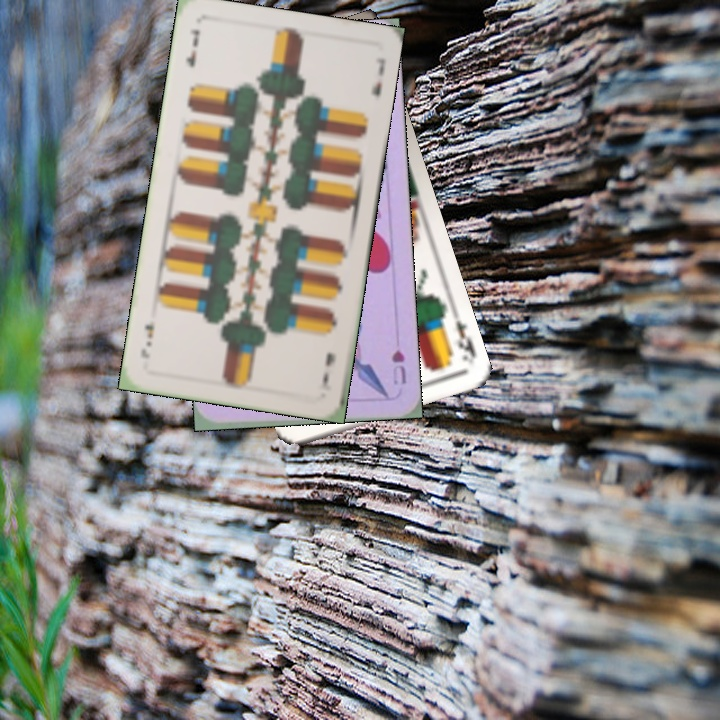E7: (318, 348, 338, 394), (182, 25, 202, 70)
EK: (451, 316, 479, 368)
HU: (387, 345, 409, 388)
